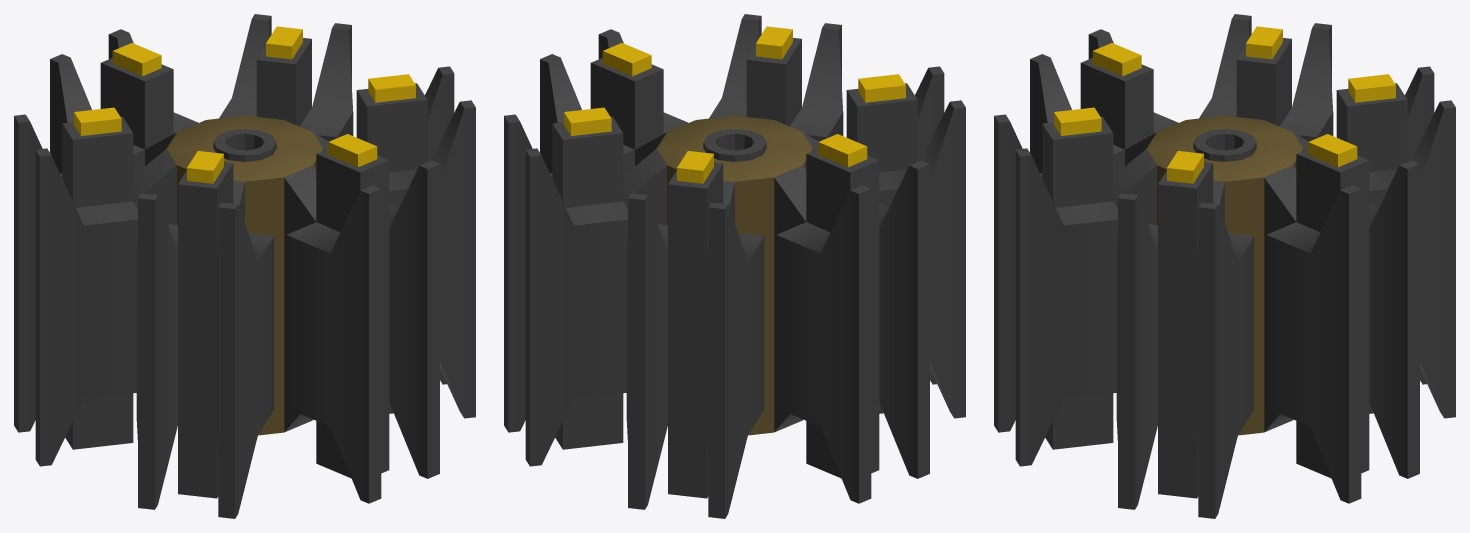
The model's file is Power Supply.fbx.
3 views of the same model, side by side, from view 1: azimuth 30°, elevation 25°; view 2: azimuth 150°, elevation 25°; view 3: azimuth 270°, elevation 25° (orthographic).
Parts seen in each view (by area): view 1: Power_Supply; view 2: Power_Supply; view 3: Power_Supply.
Part boxes in pixels (box(x1,y1,x2,y2)): Power_Supply: box(14, 14, 475, 518); Power_Supply: box(504, 14, 965, 518); Power_Supply: box(994, 14, 1455, 518).
Size of the model in its own units: 1.55 by 1.2 by 1.55.
